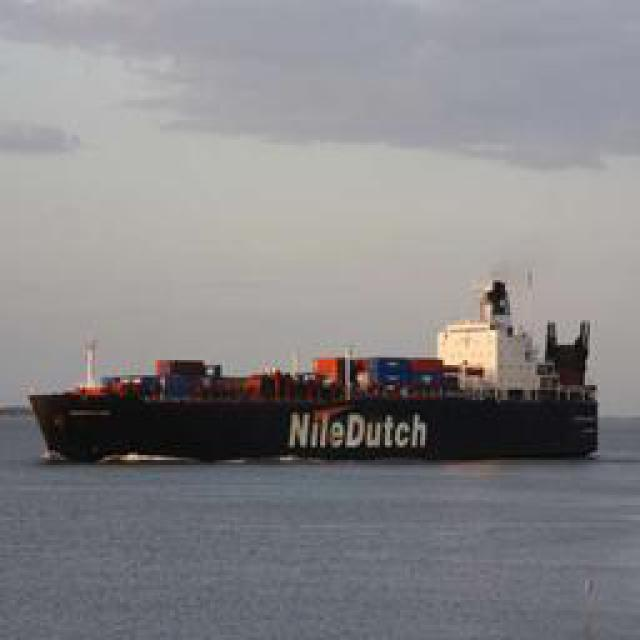Ship: (15, 363, 605, 461)
